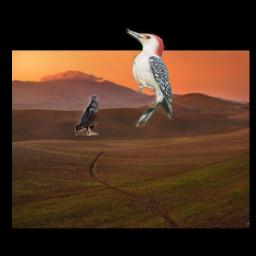Crow: (76, 96, 99, 137)
Woodpecker: (123, 28, 172, 127)
